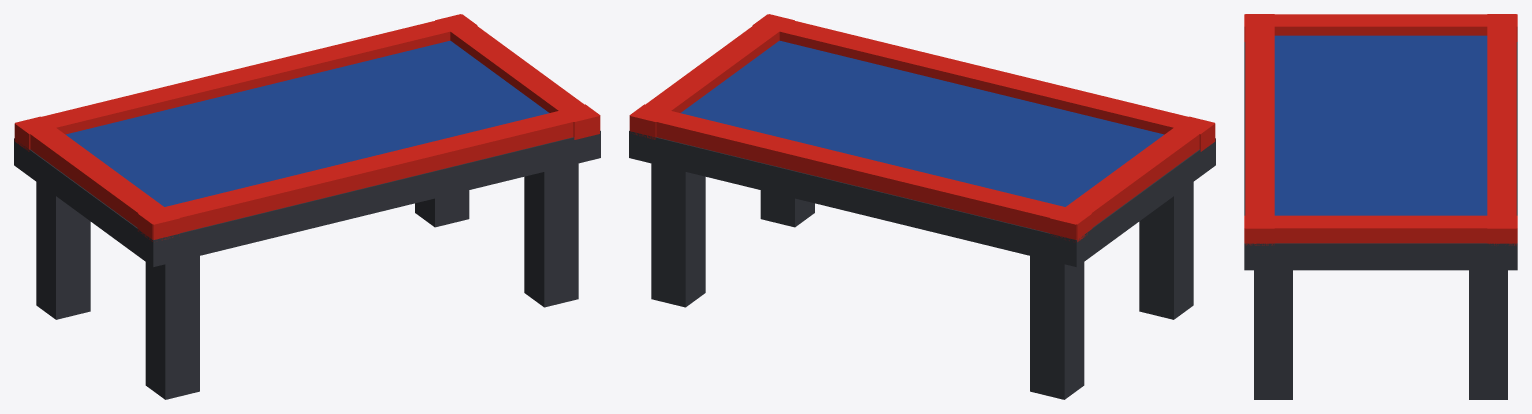
Rendered from pool_table_blue.glb.
3 renders of one model, left to right at view 1: azimuth 30°, elevation 25°; view 2: azimuth 150°, elevation 25°; view 3: azimuth 270°, elevation 25°, orthographic.
Visible parts, largest first — view 1: pool_table_blue; view 2: pool_table_blue; view 3: pool_table_blue.
Boxes of the visible parts, x1,y1,x2,y2 form: pool_table_blue: [14, 14, 600, 399]; pool_table_blue: [629, 14, 1215, 399]; pool_table_blue: [1244, 14, 1517, 399].
Size of the model in its own units: 2.6 by 1.01 by 1.4.
